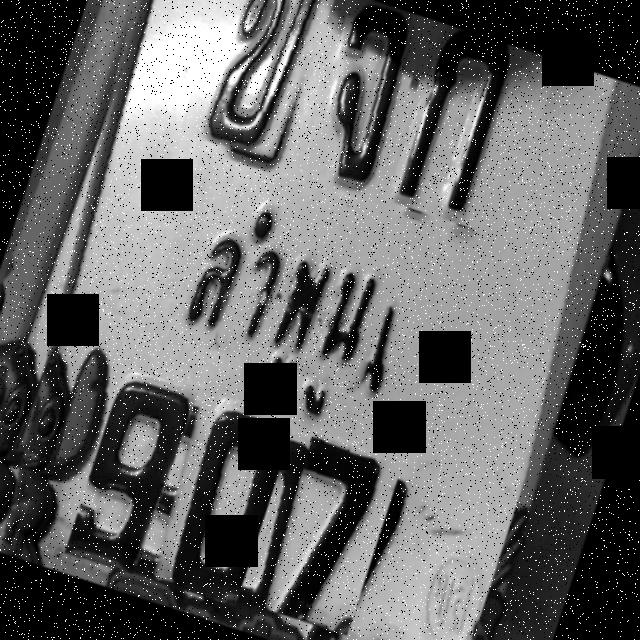letters: (382, 22, 560, 238), (142, 378, 300, 608), (256, 430, 404, 636), (291, 0, 431, 208), (64, 364, 200, 578), (178, 0, 338, 168)
license-plate: (6, 0, 626, 640)
province: (142, 151, 424, 404)
